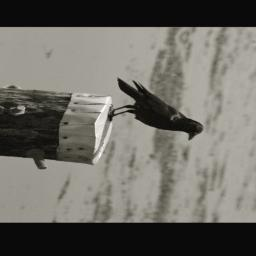Crow: (98, 76, 218, 143)
